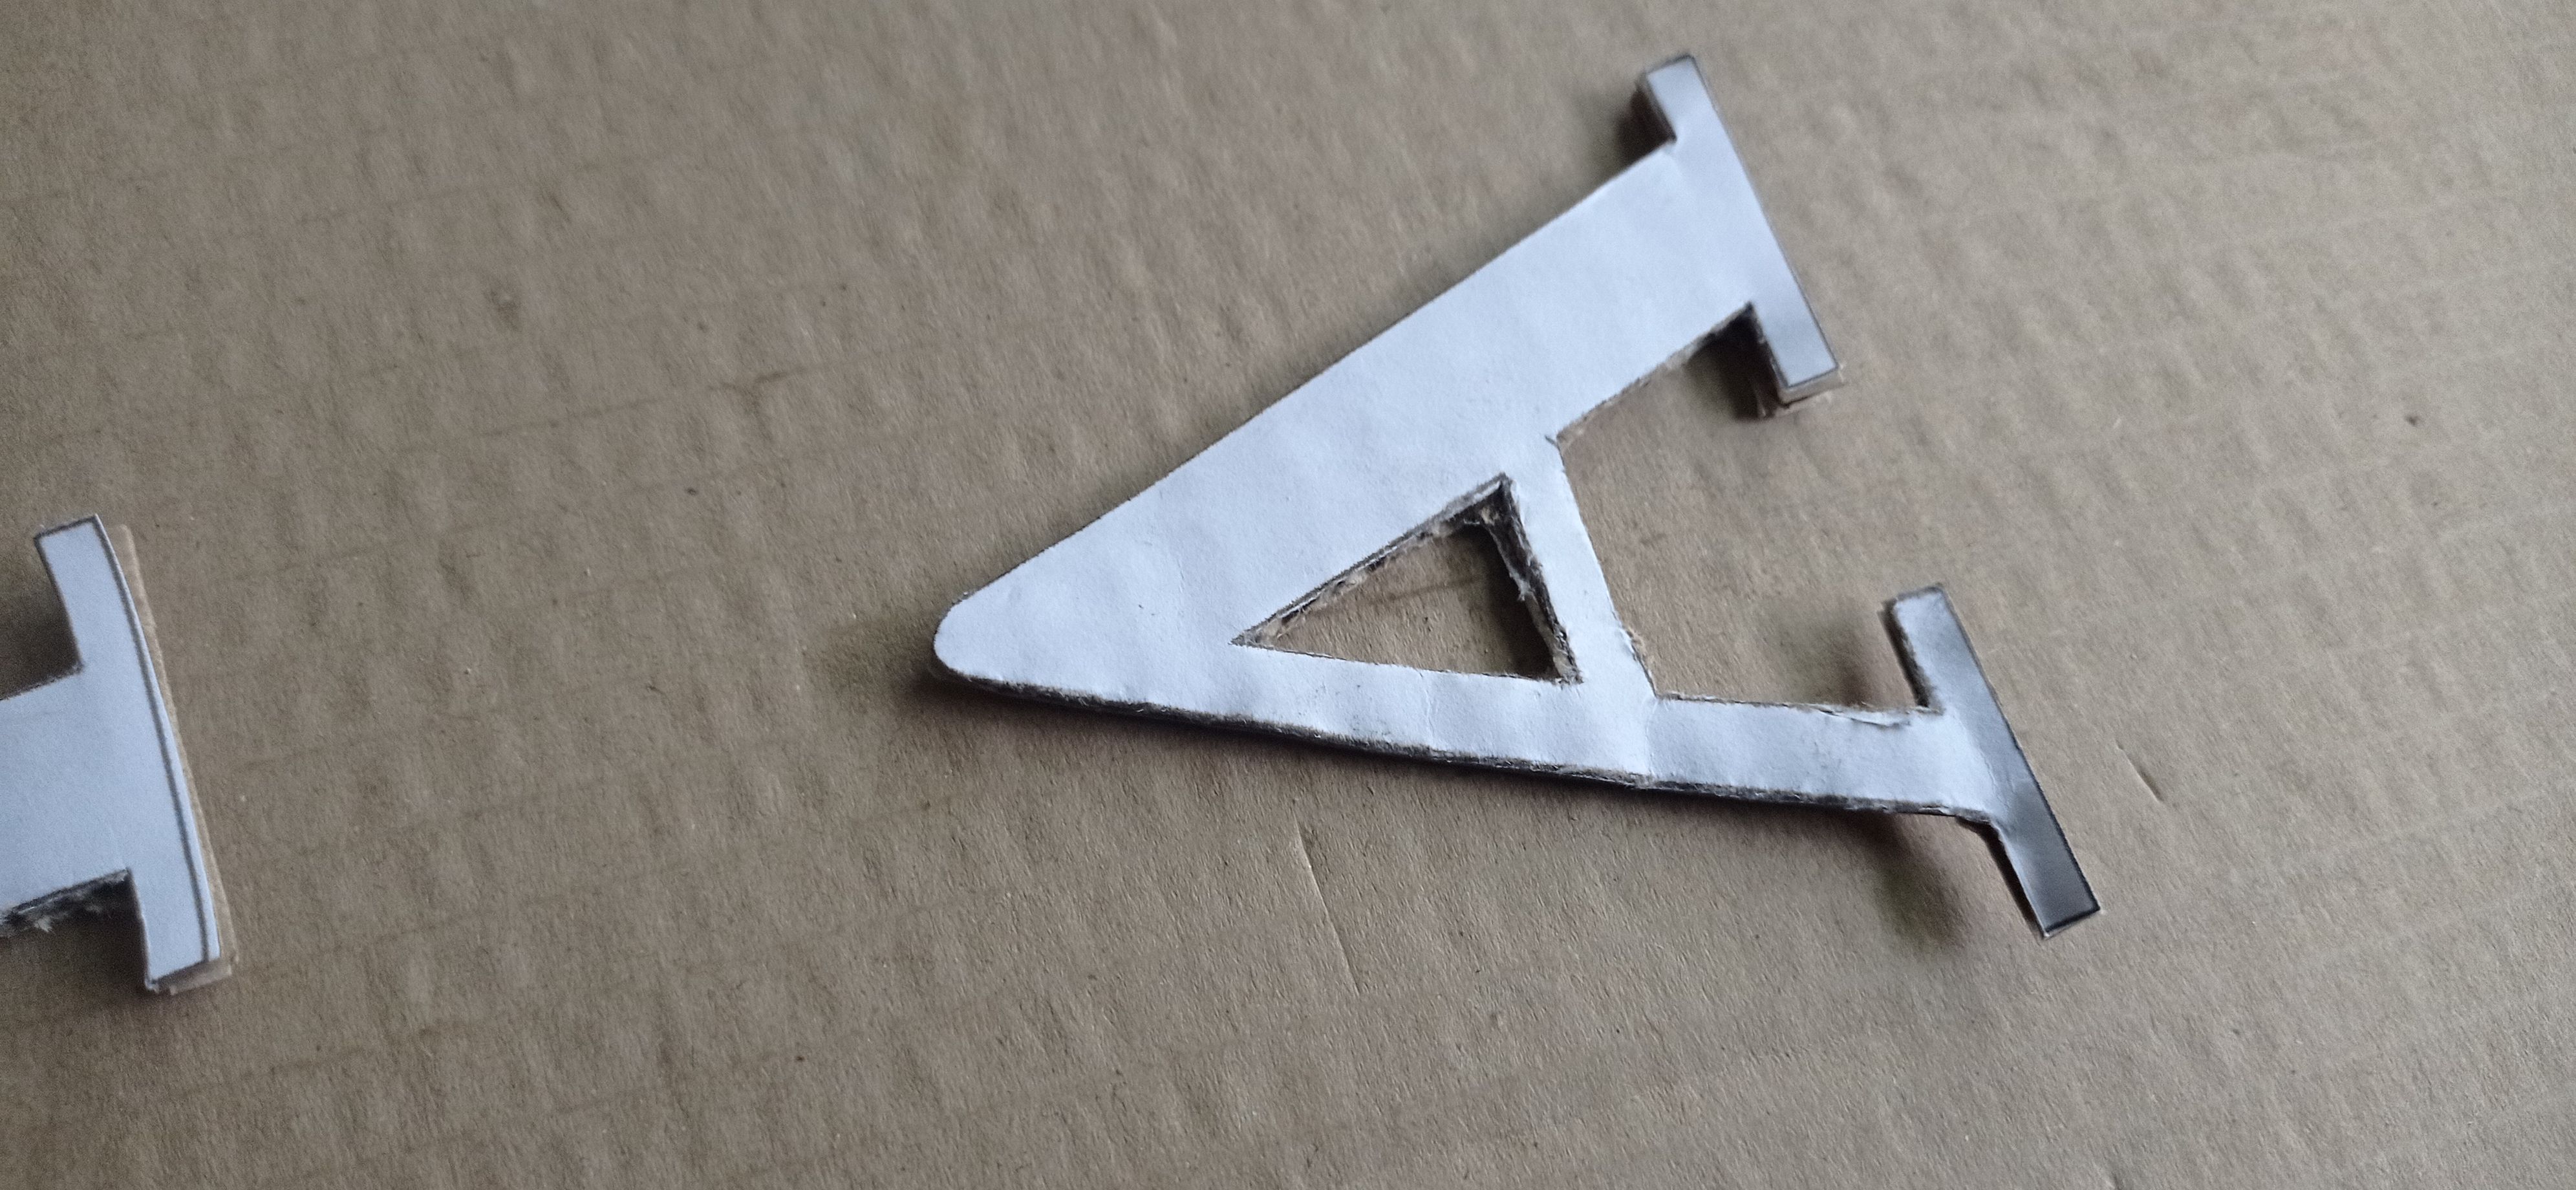a: (930, 51, 2103, 943)
